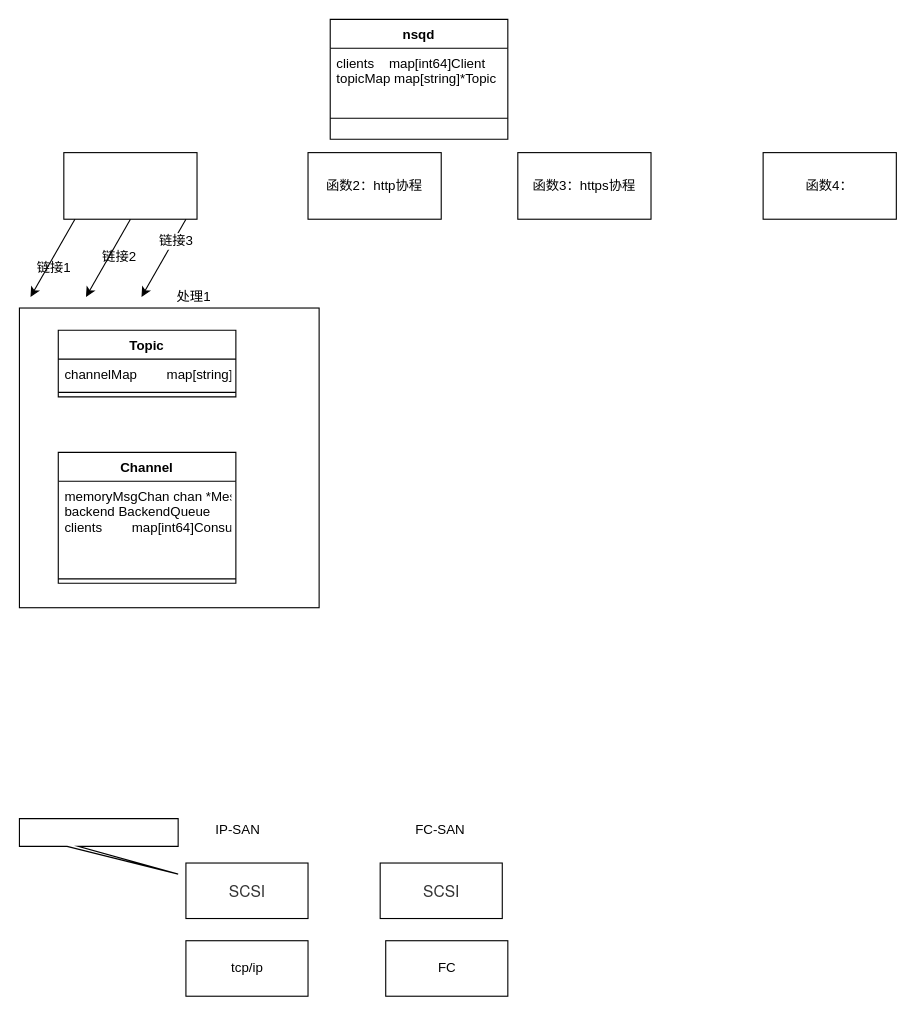
Some shapes in this 916 by 1016 pixel diagram are drawn without their labels. Here are the shapes that lost their labels. From the top down, the centre of each, then its label:
At (x=130, y=185): "函数1：tcp协程".
At (x=98, y=846): "由于在tcp/ip之上，所以也称为ISCSI".
